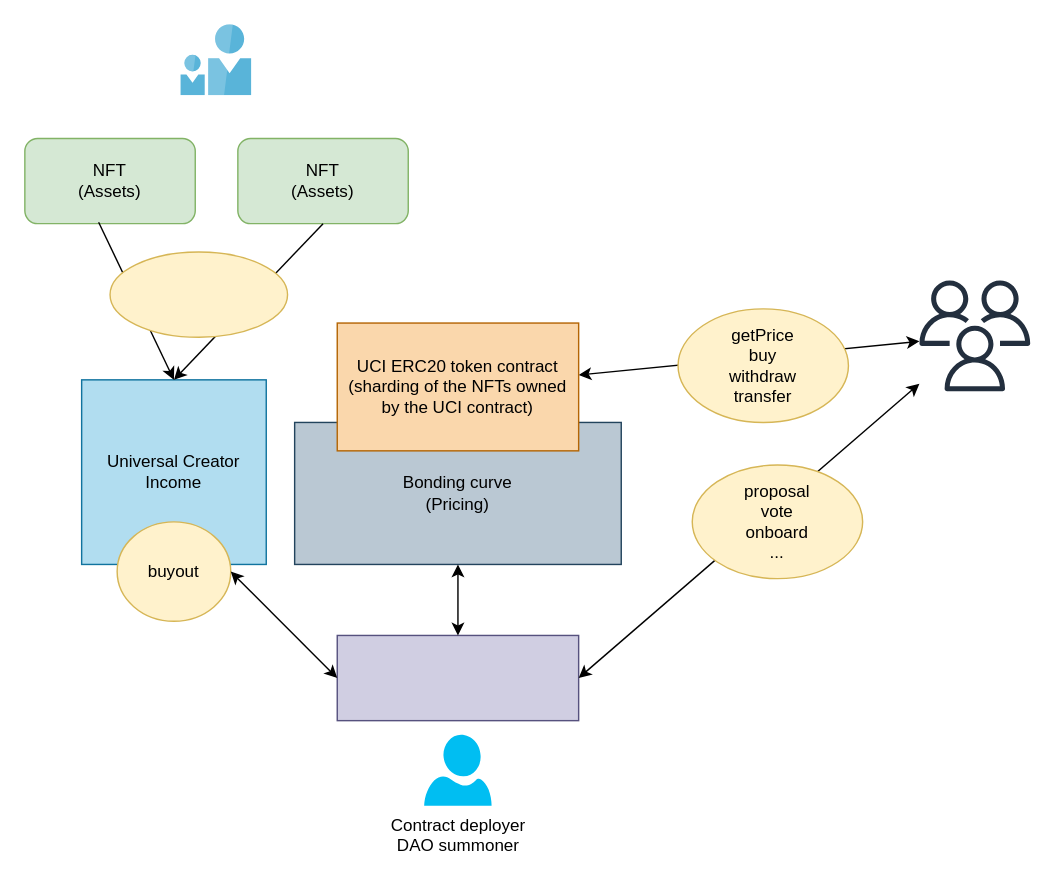
The diagram is 1055 pixels wide and 880 high, and some of its shapes have lost their labels. Here are the shapes that lost their labels. From the top down, the centre of each, then its label:
At pixel 215 59: "NFT owners".
At pixel 198 294: "fungify".
At pixel 974 335: "users/ members".
At pixel 457 677: "DAO contract (Governance)".
